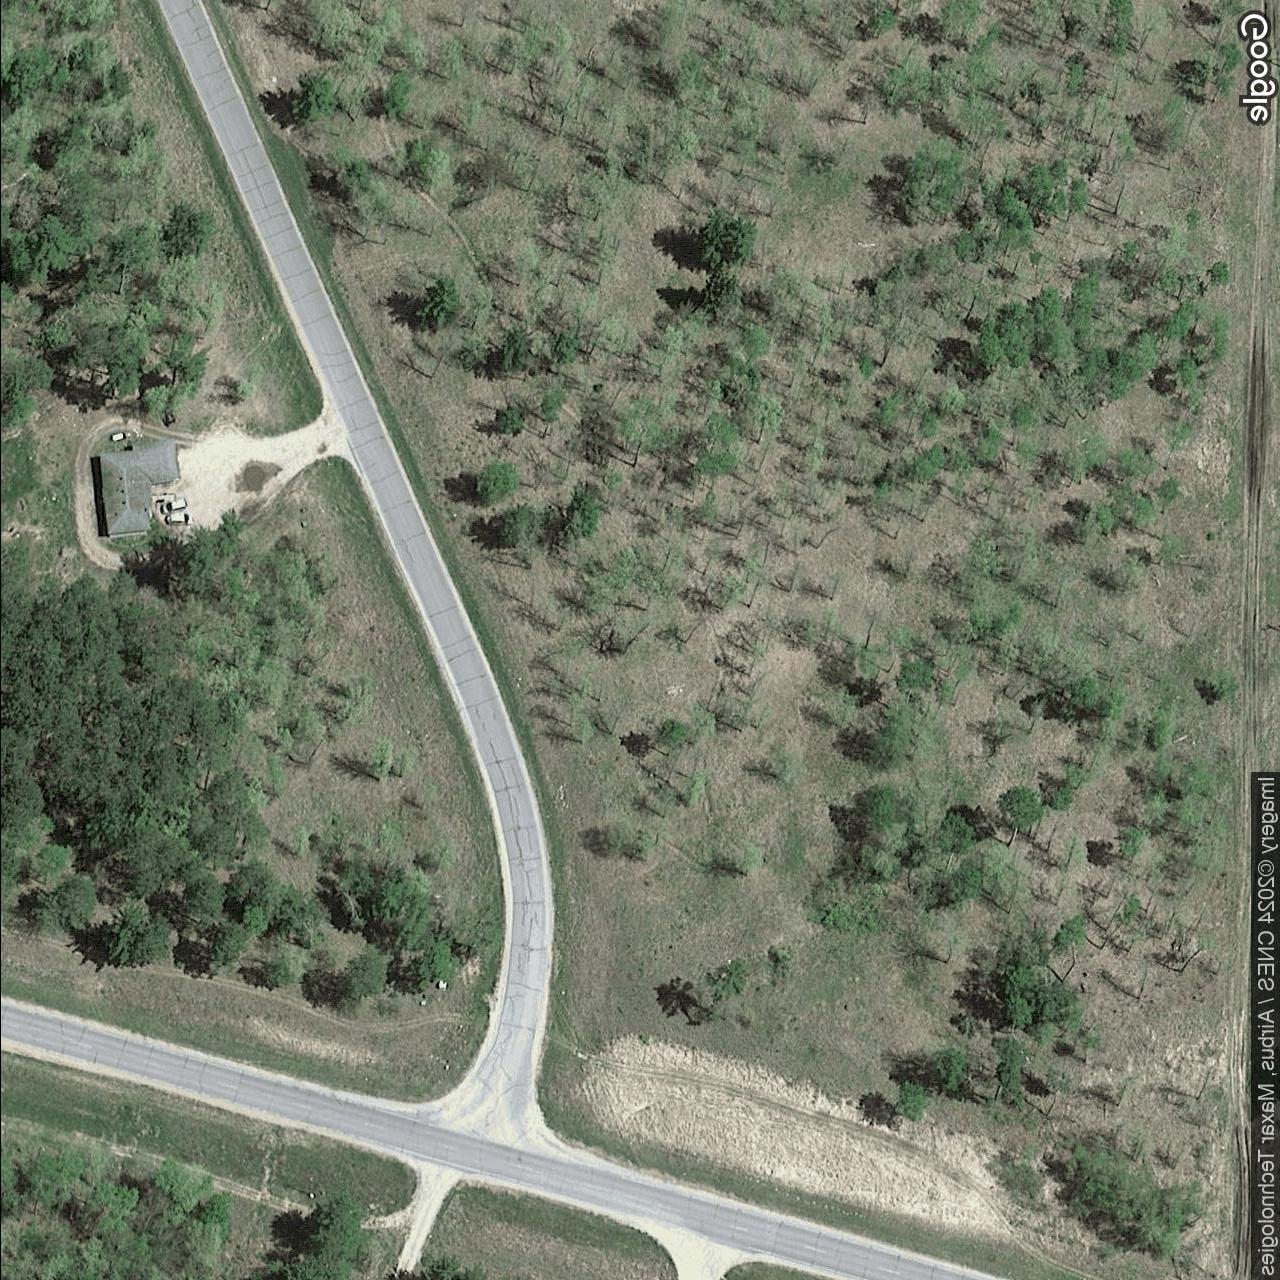House: (97, 437, 183, 538)
Propane: (107, 430, 127, 443)
